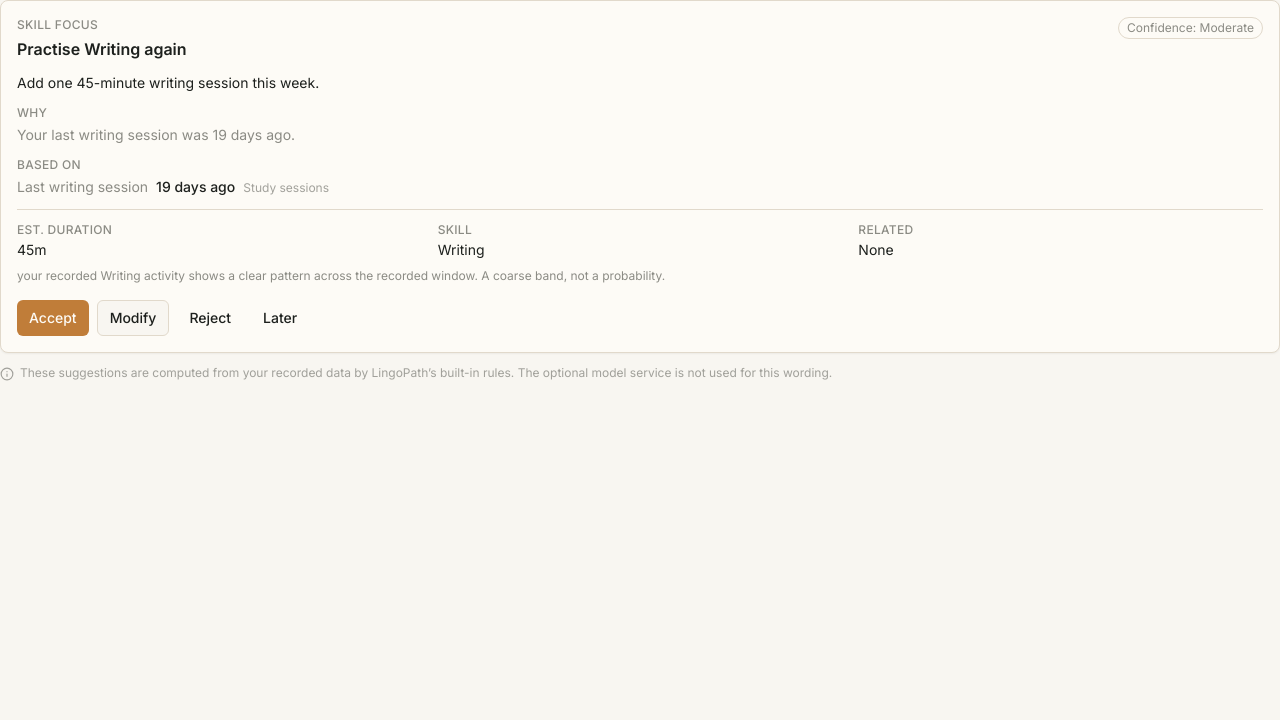
suggestion panel › asks before it touches the plan, and only writes after the confirmation
This screenshot has width=1280, height=720.
Click the button with aria-label "Accept: Practise Writing again": click(53, 318) [17, 300, 89, 336]
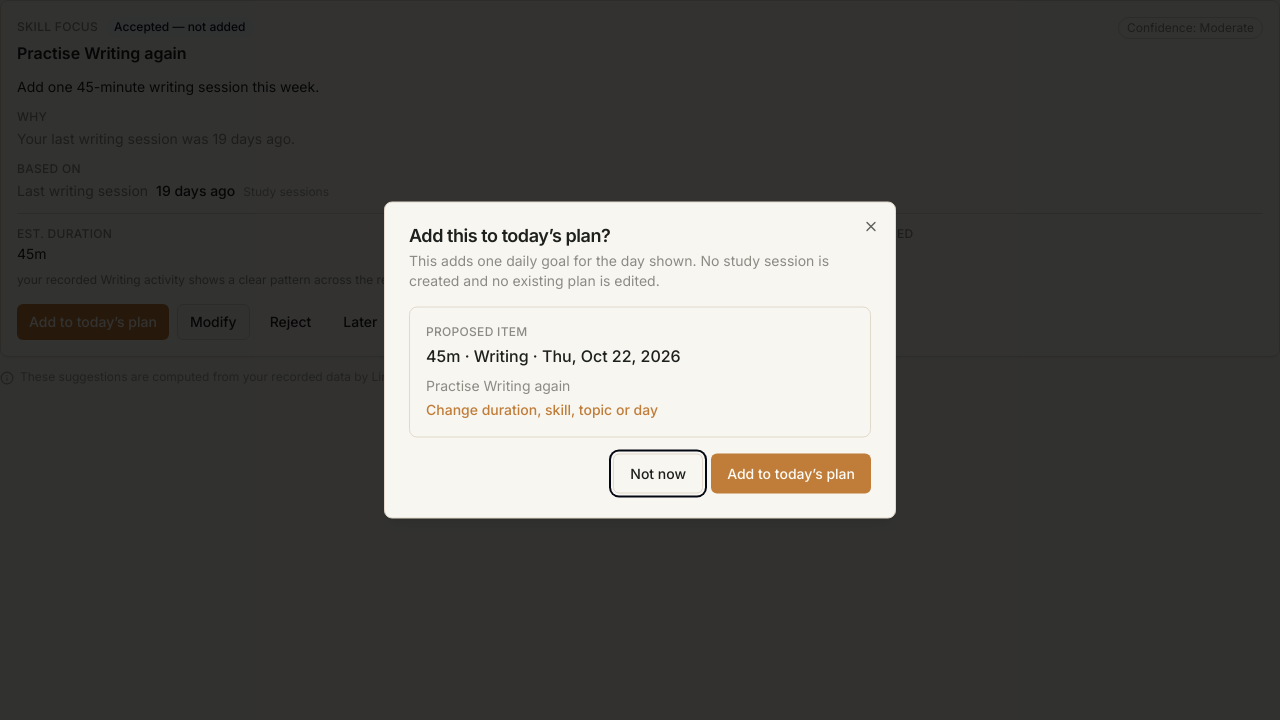
Expected: the heading "Add this to today’s plan?" is shown, [409, 224, 610, 246]
Click the button "Add to today’s plan": click(791, 474) [711, 454, 871, 494]
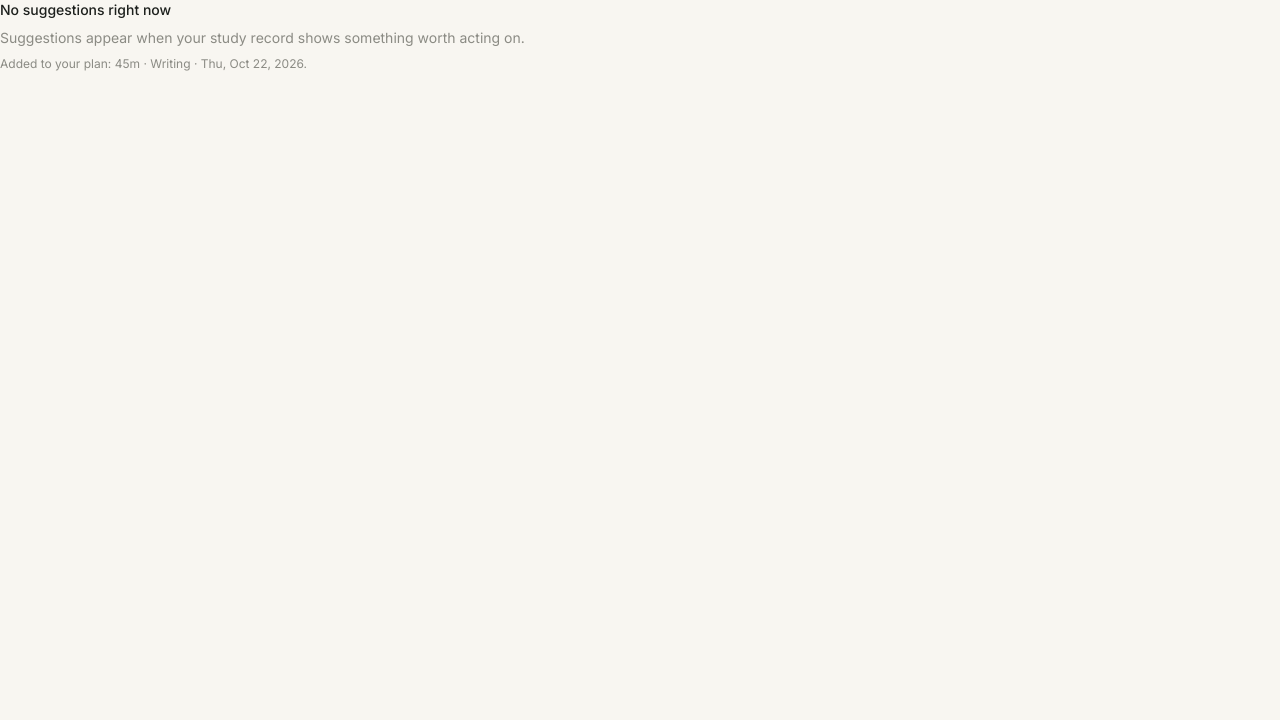
Expected: the message shows "Added to your plan", [0, 56, 307, 71]
